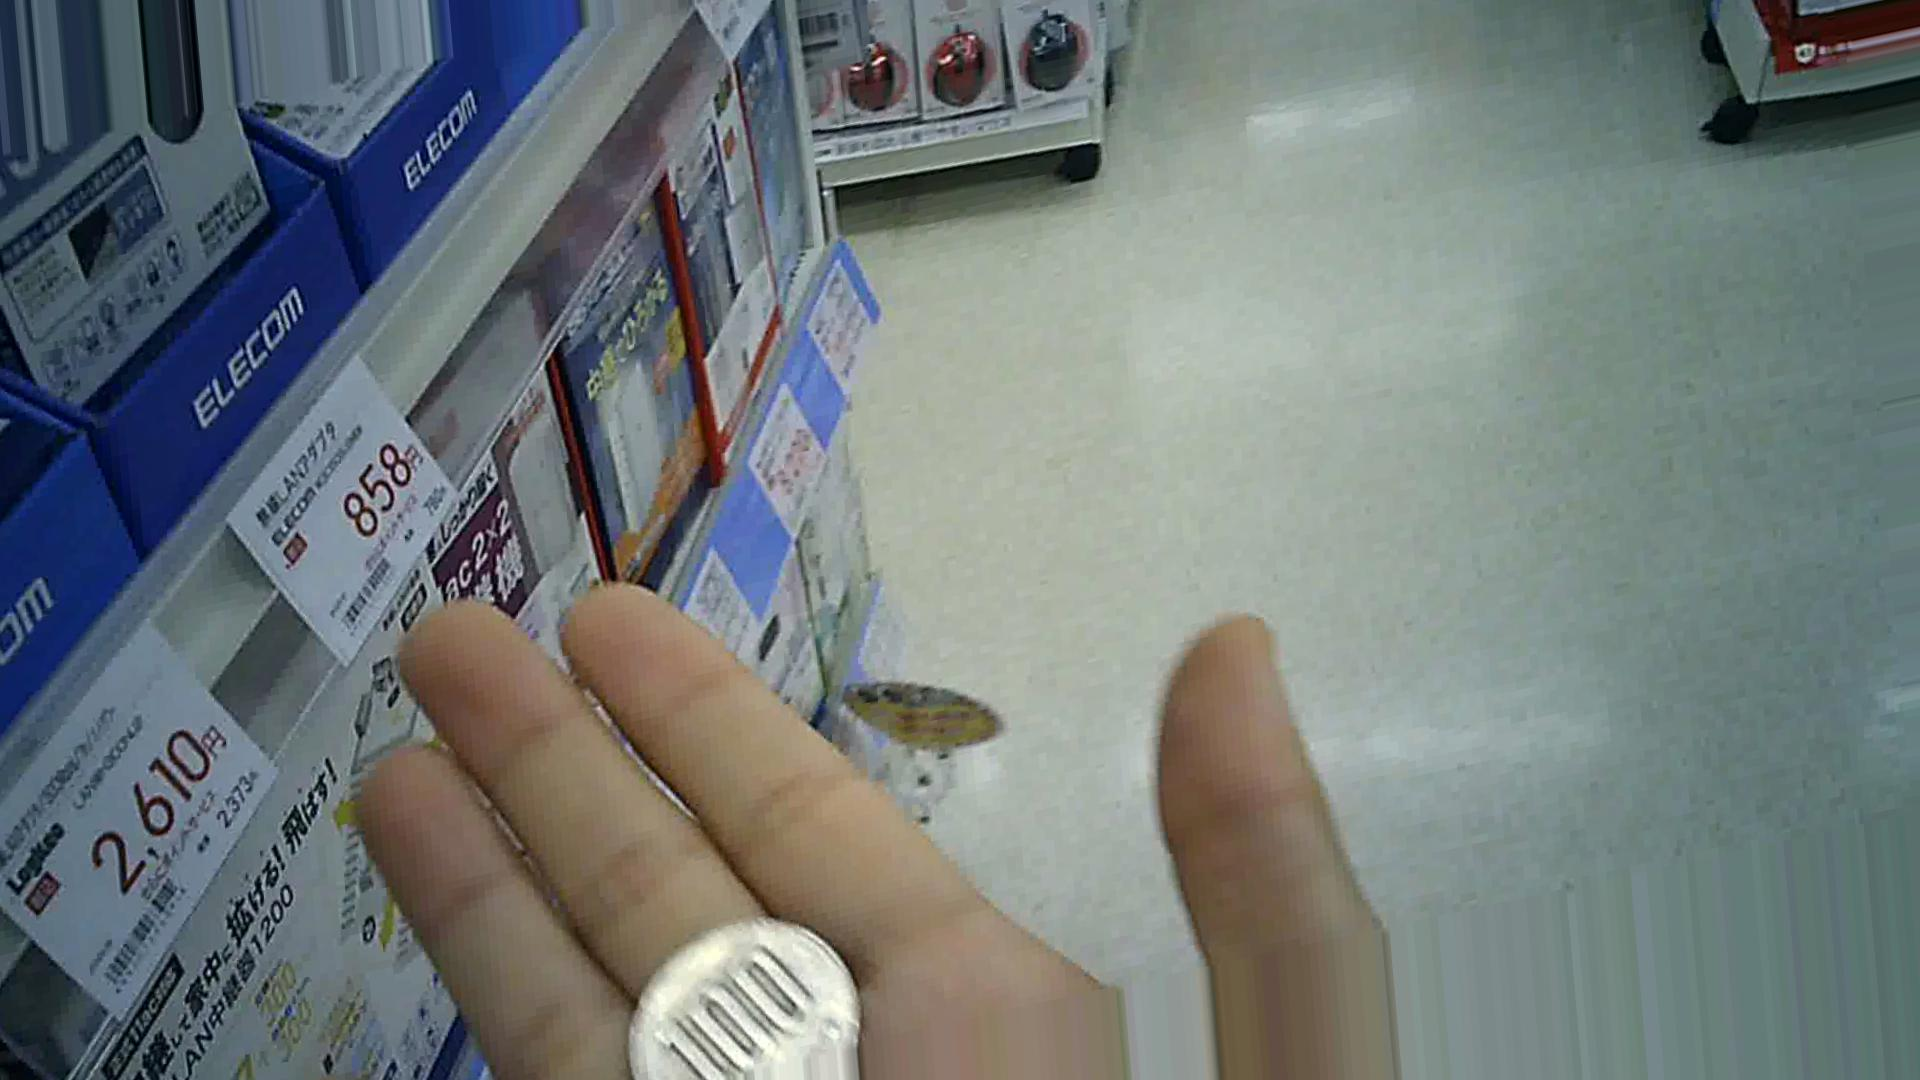100 Yen: (625, 911, 860, 1079)
